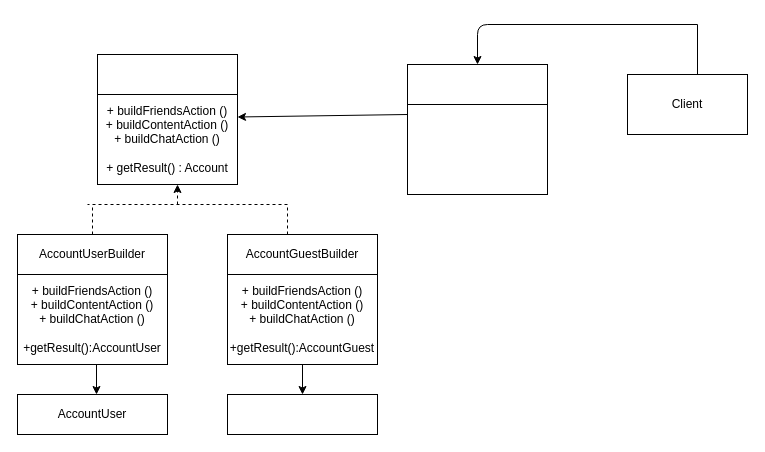
This 765x452 diagram has some shape labels left out. Here are the shapes that lost their labels. From the top down, the box of each, then its label:
(96, 54, 238, 94): AccountUserBuilder Interface
(406, 64, 548, 104): SocialNetwork
(406, 104, 548, 194): + loginUser() : AccountUser или AccountGuest - внутри вызывается нужный Builder
(226, 394, 378, 434): AccountGuest
